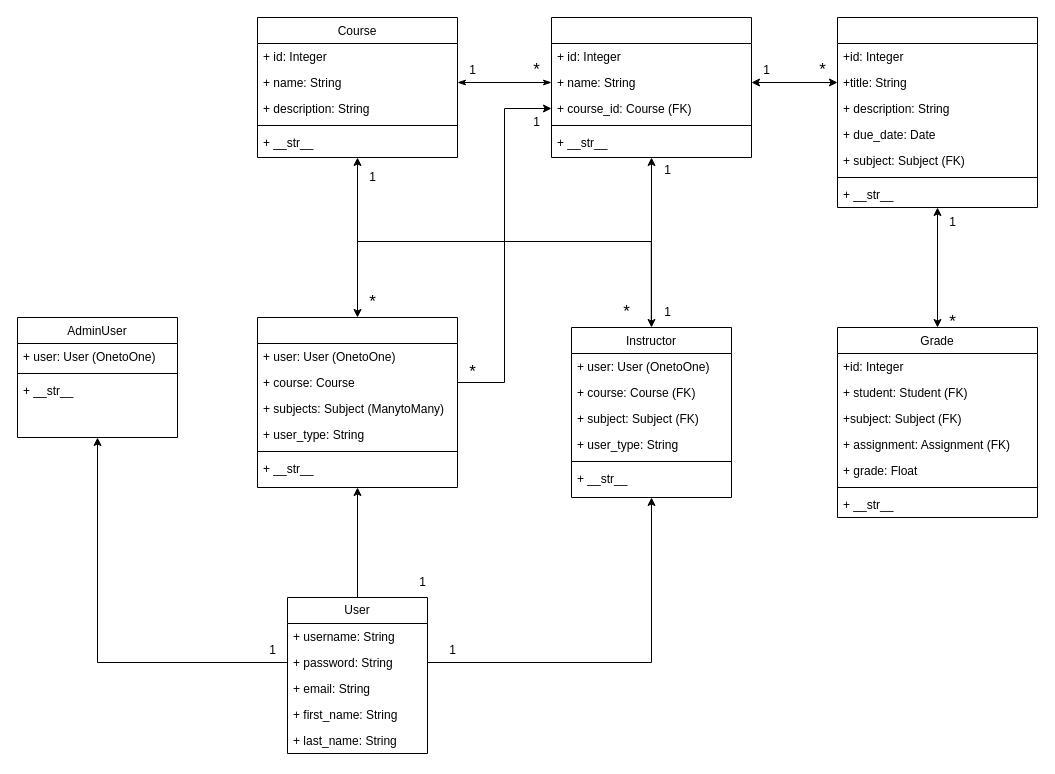
Some shapes in this 1055 by 774 pixel diagram are drawn without their labels. Each missing label, with the box of its shape:
Assignment: (836, 16, 1038, 208)
Student: (256, 316, 458, 488)
Subject: (550, 16, 752, 158)
